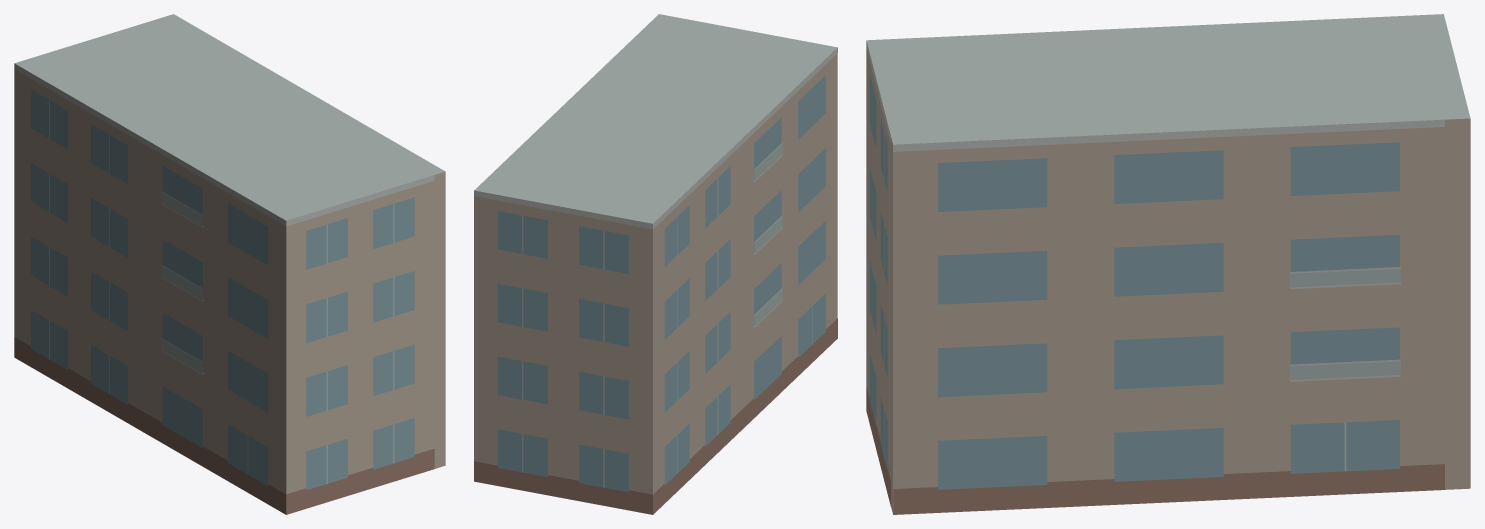
File: survey-upis-32532274.glb
3 views of the same model, side by side, from view 1: azimuth 30°, elevation 25°; view 2: azimuth 150°, elevation 25°; view 3: azimuth 270°, elevation 25° (orthographic). The views are drawn at different scales.
Parts seen in each view (by area): view 1: survey-upis-32532274.tmp; view 2: survey-upis-32532274.tmp; view 3: survey-upis-32532274.tmp.
Part boxes in pixels (x1,y1,x2,y2): survey-upis-32532274.tmp: (14, 14, 445, 514); survey-upis-32532274.tmp: (474, 14, 837, 514); survey-upis-32532274.tmp: (866, 14, 1470, 514).
Size of the model in its own units: 9.39 by 12.4 by 18.35.
